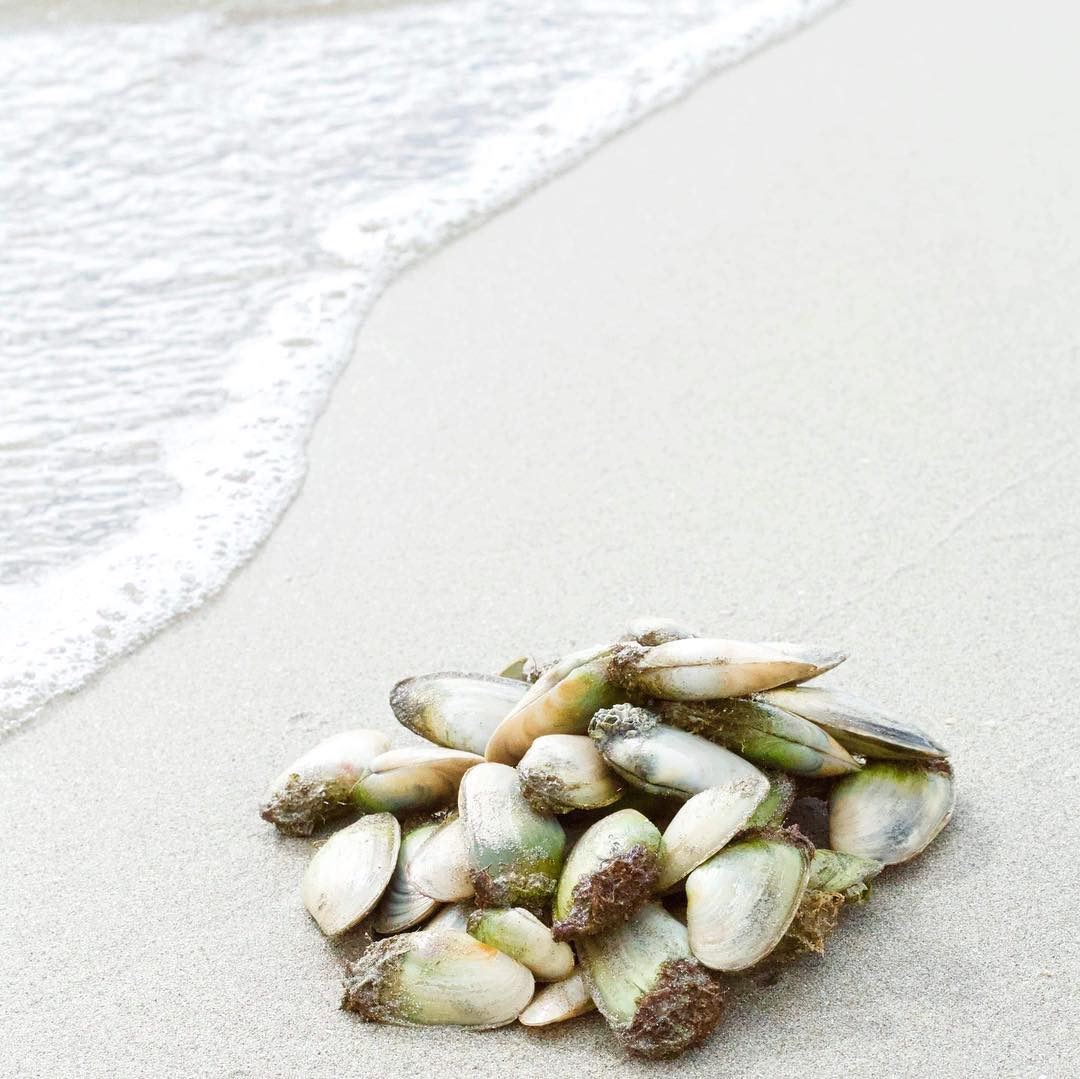tuatua: (676, 834, 810, 977), (353, 926, 533, 1030), (578, 901, 704, 1043), (756, 683, 952, 774), (590, 704, 772, 800), (553, 799, 673, 936), (486, 643, 620, 761), (829, 750, 958, 868), (459, 756, 562, 903), (611, 634, 818, 701), (714, 695, 865, 786), (262, 730, 388, 835), (654, 777, 766, 888), (395, 668, 528, 757), (306, 814, 404, 930), (356, 744, 490, 812), (522, 730, 626, 811)
